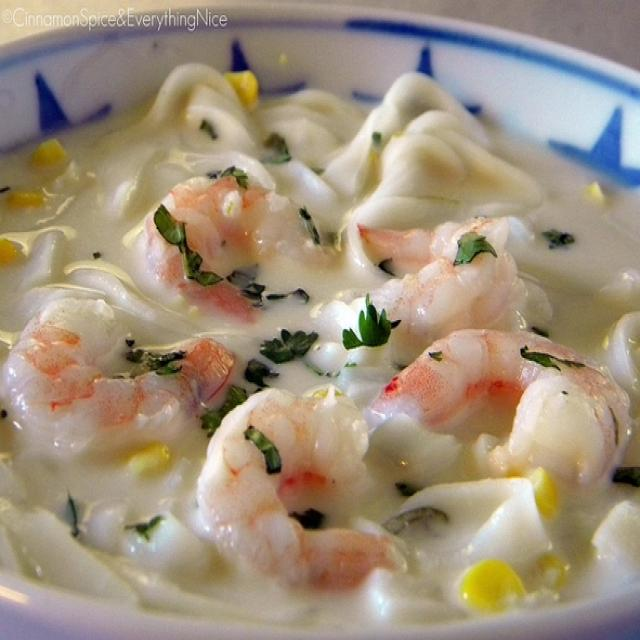汤锅炖物: (21, 26, 620, 599)
